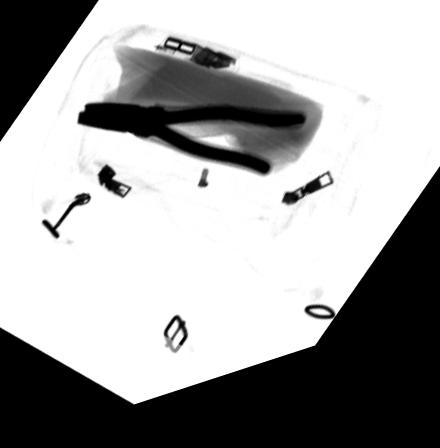Pliers: (74, 106, 308, 192)
